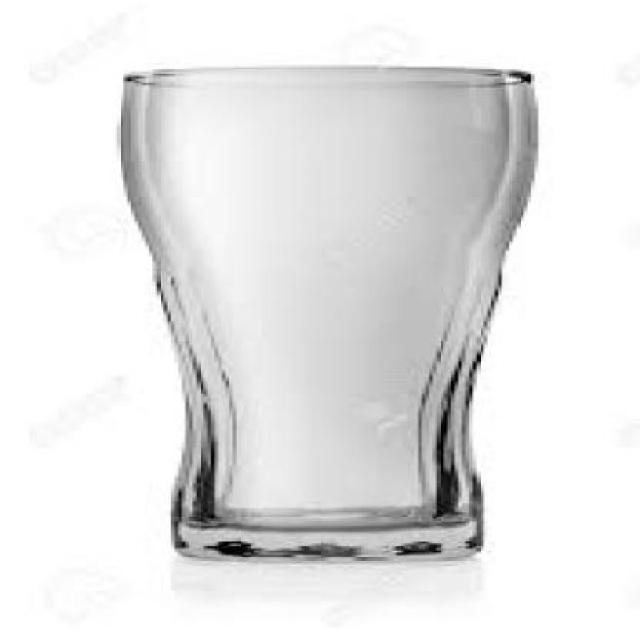kaca: (117, 65, 538, 560)
